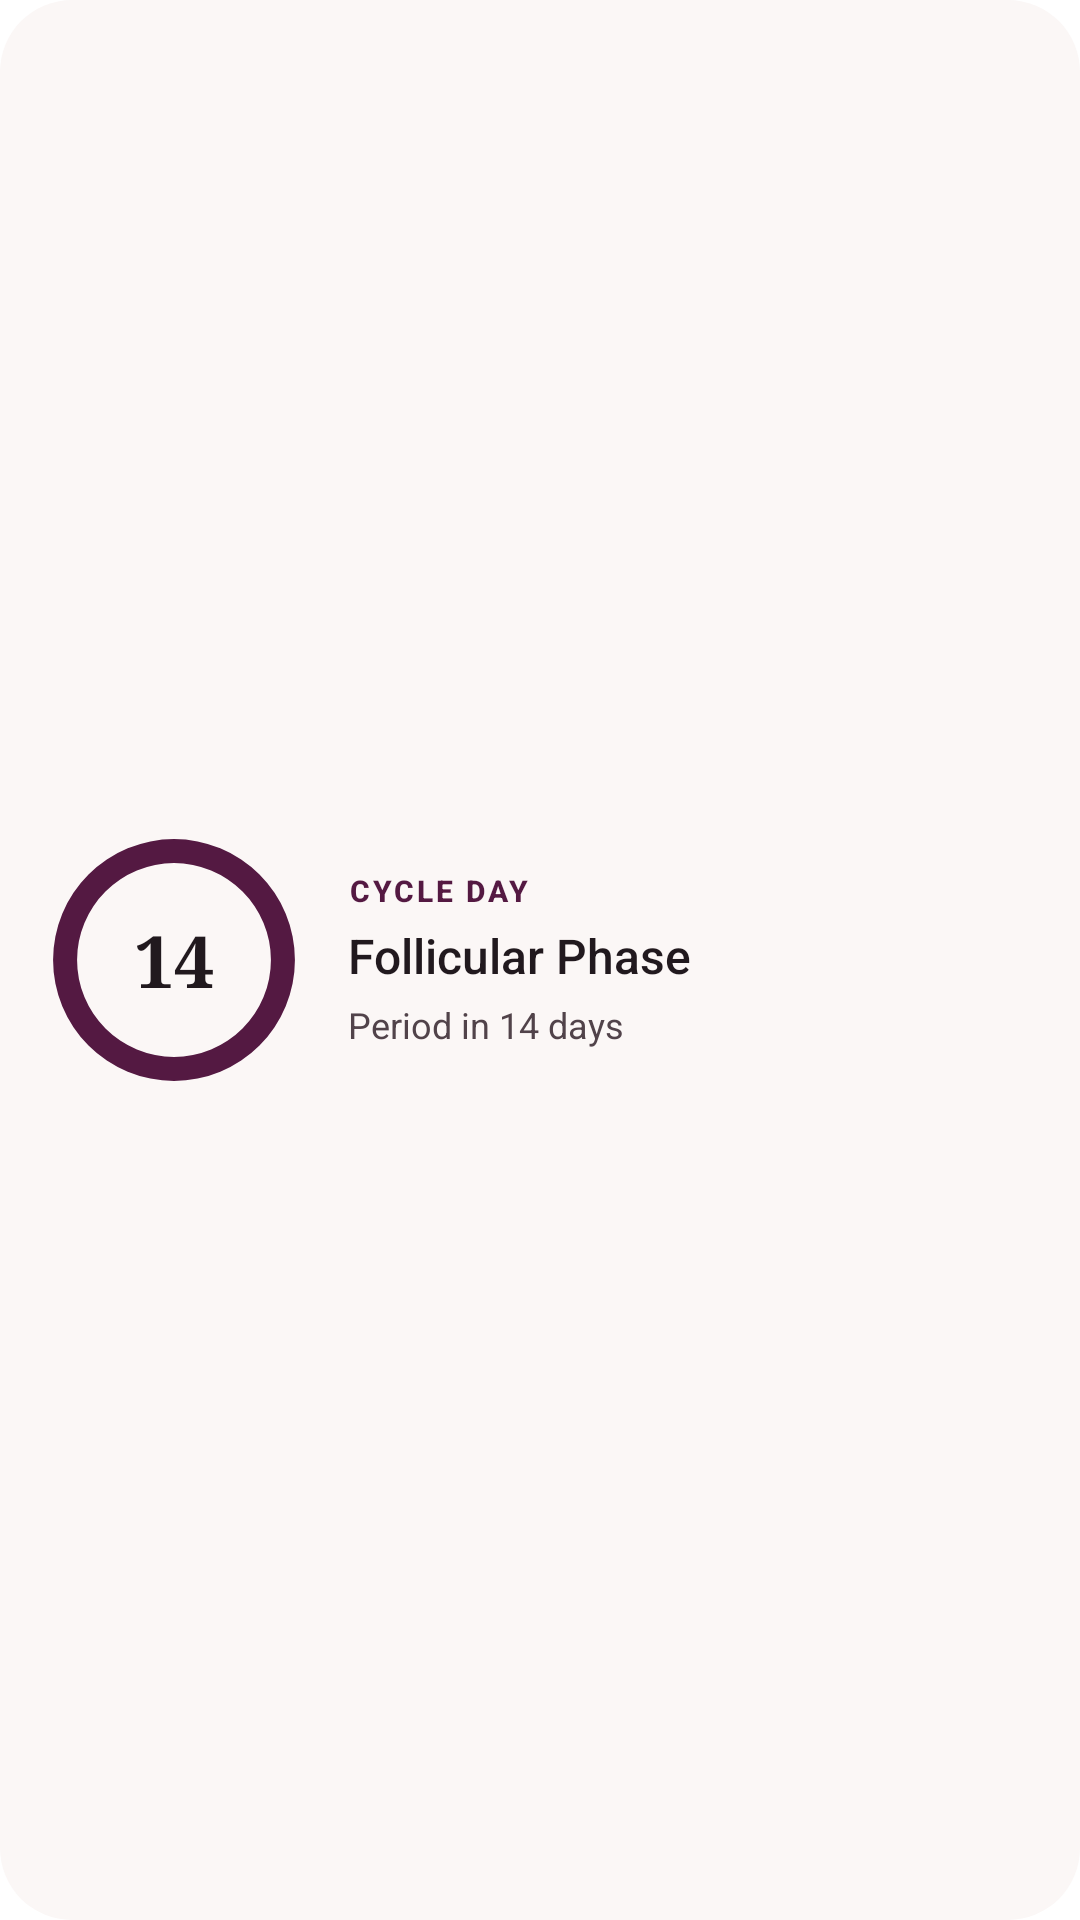

Icons on this 1080x1920 Android screen, each with its box as box=[x1, y1, x2, y2]:
widget ring: box=[53, 839, 295, 1081]
